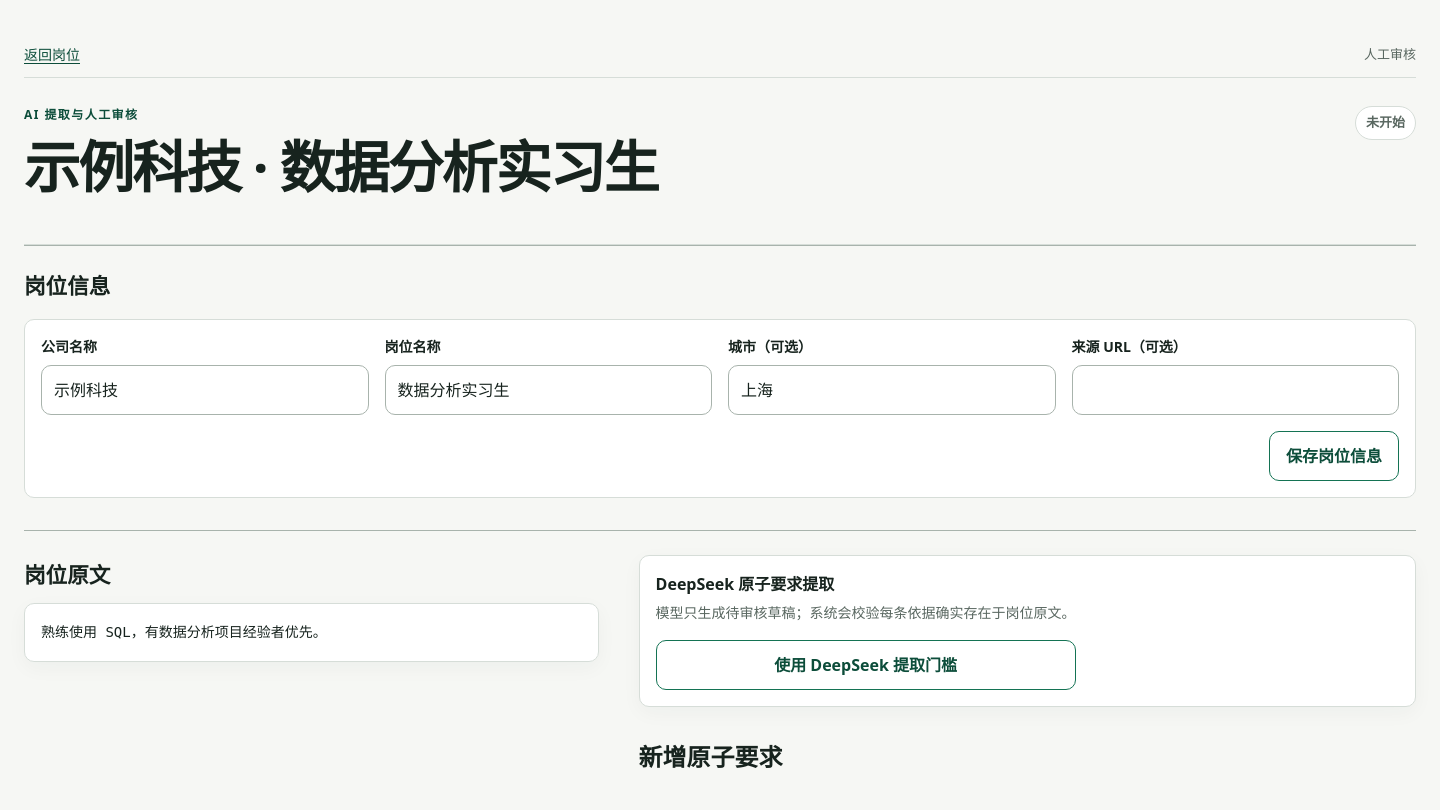
it: RequirementReviewDashboard › guides manual review when AI analysis finds no requirements
Click the button "使用 DeepSeek 提取门槛" at (866, 665), box 656,640 -> 1076,690
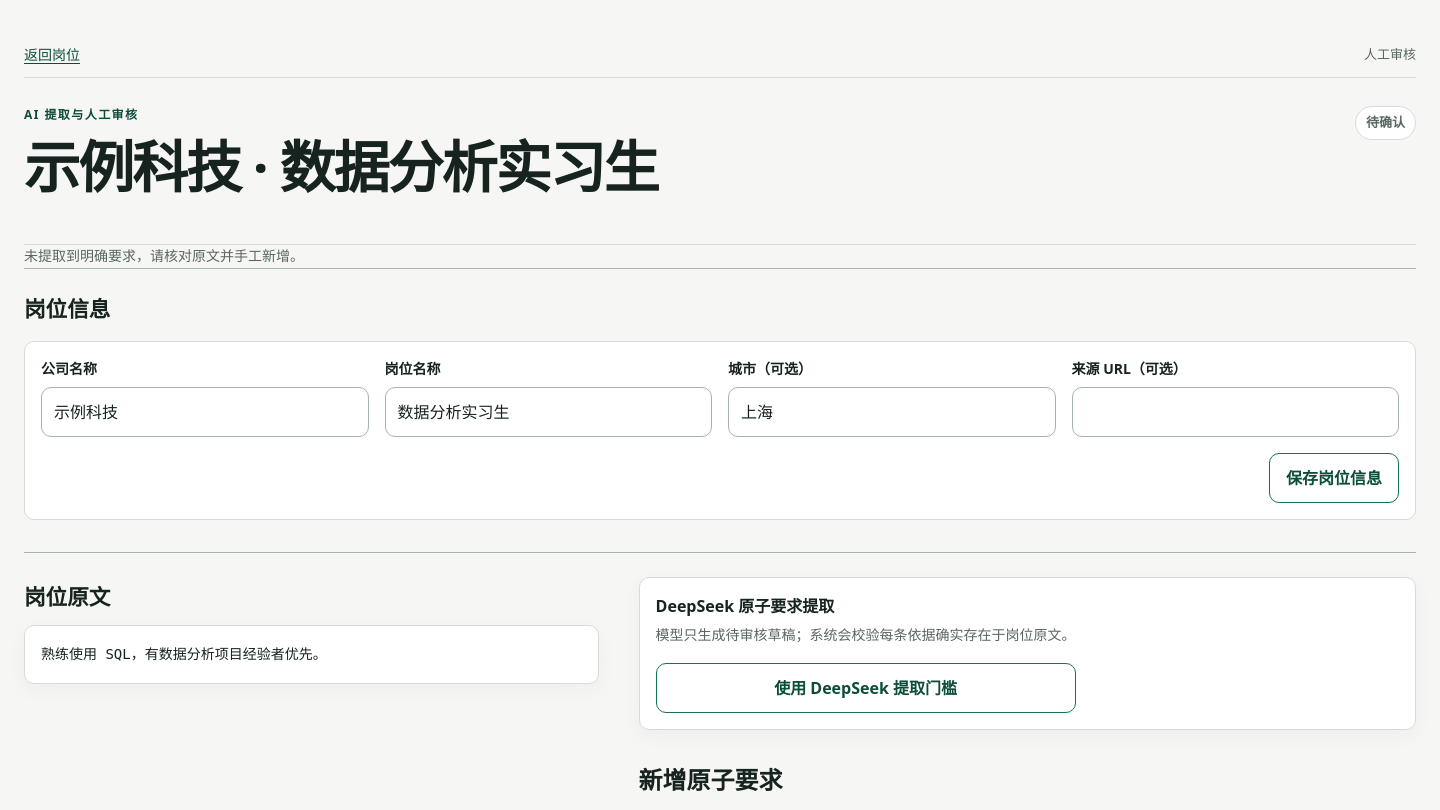
Expected: the heading "新增原子要求" is shown, 639,763 -> 783,796
Expected: the text "未提取到明确要求，请核对原文并手工新增。" is shown, 24,246 -> 304,266
